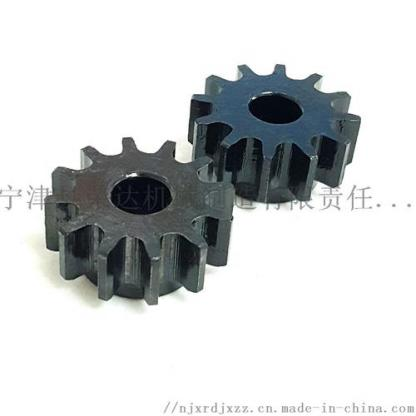FOD: (39, 132, 236, 308), (188, 60, 372, 206)
